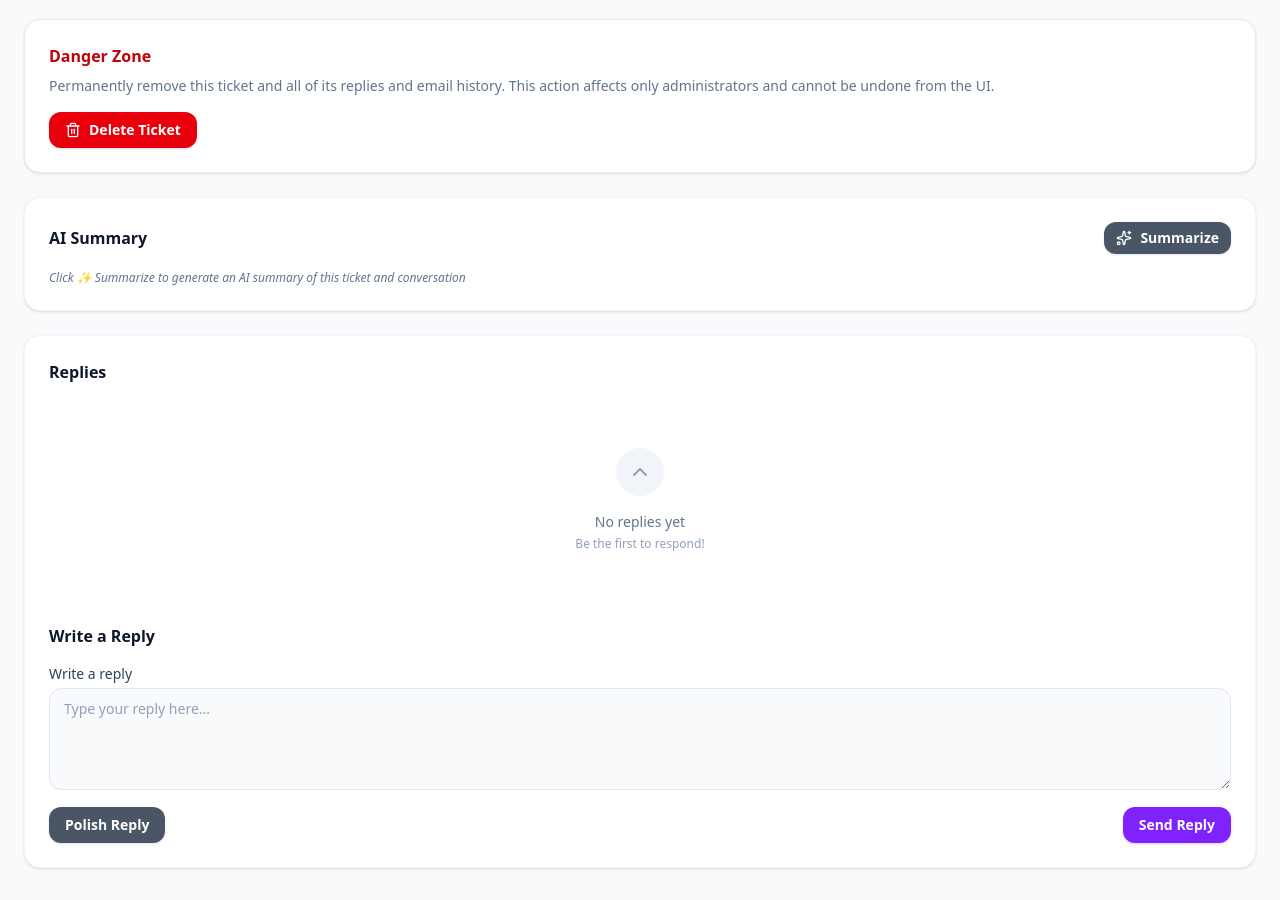
Test: TicketDetailsPage › keeps reply composer and typed text when reply fails
(page scrolled)
Expected: the text "No replies yet" is shown, left=595, top=512, right=685, bottom=532
Type a reply
In the text box labelled "Write a reply": (640, 738) left=49, top=688, right=1231, bottom=790, type "This should be kept"
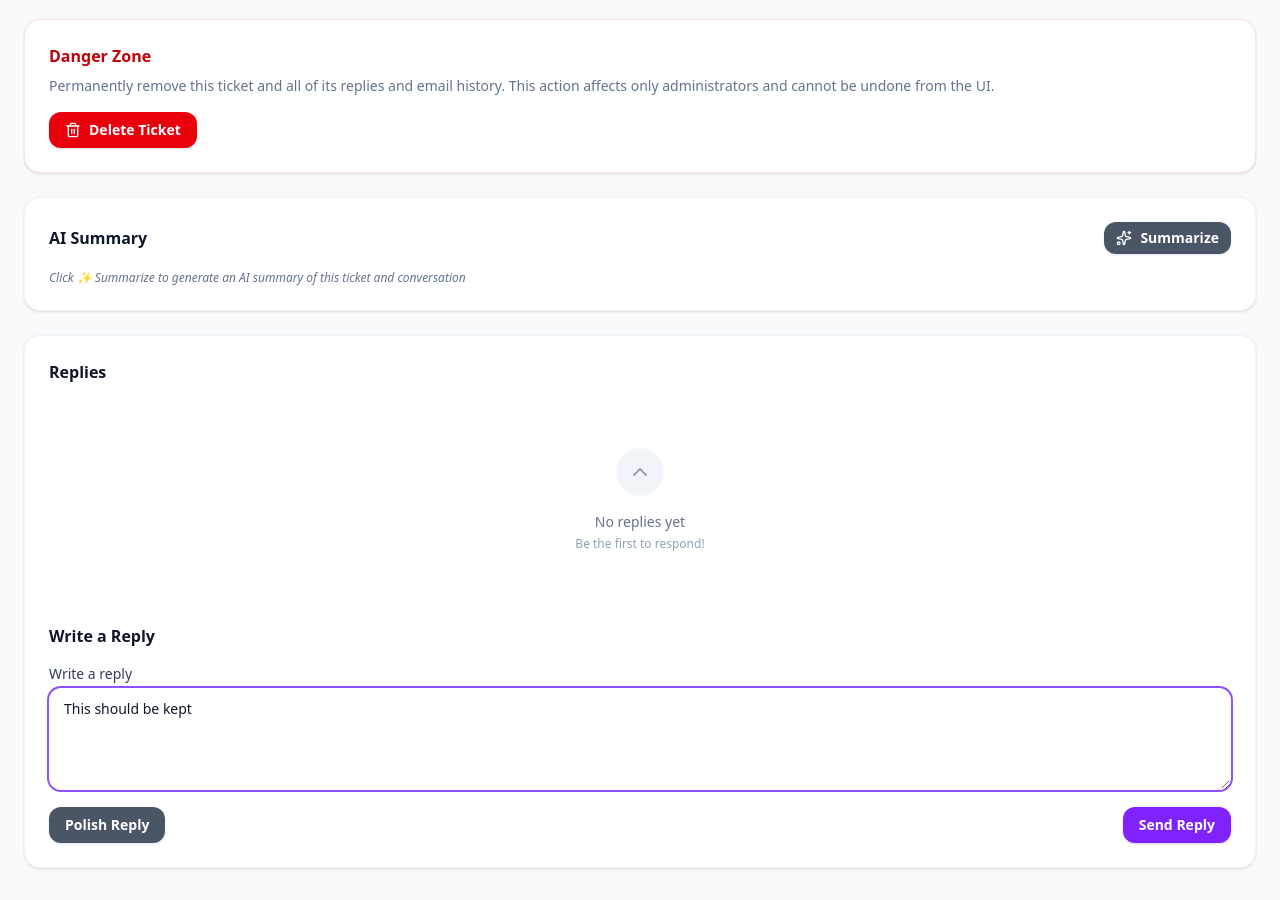
Click send reply
Click the button "Send Reply": (1177, 825) left=1123, top=807, right=1231, bottom=843
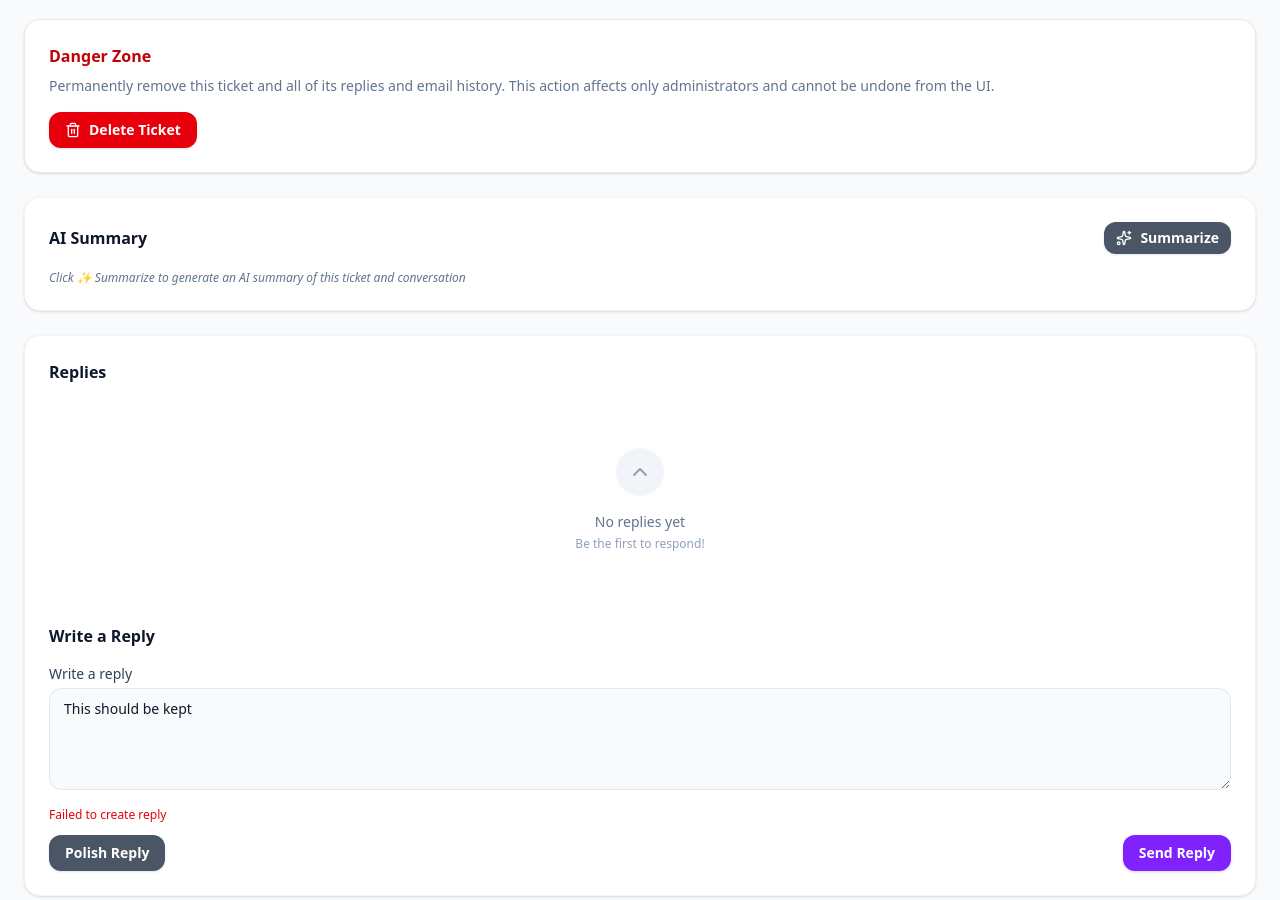
Expected: the element with test id "reply-composer" is shown, left=49, top=624, right=1231, bottom=871
Expected: the text "Failed to create reply" is shown, left=49, top=806, right=166, bottom=823
